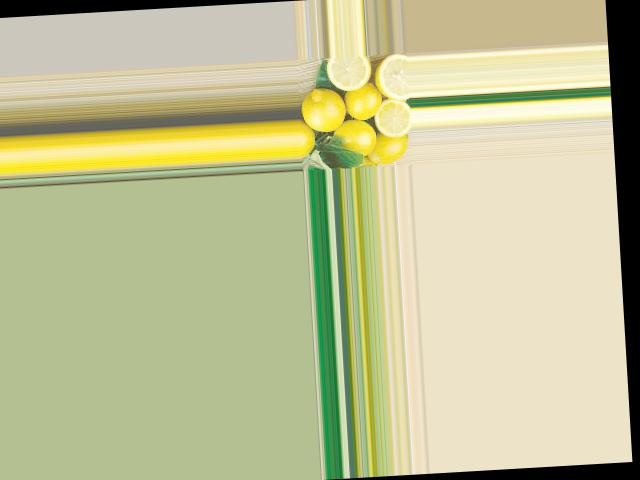lemon: (365, 131, 409, 166)
